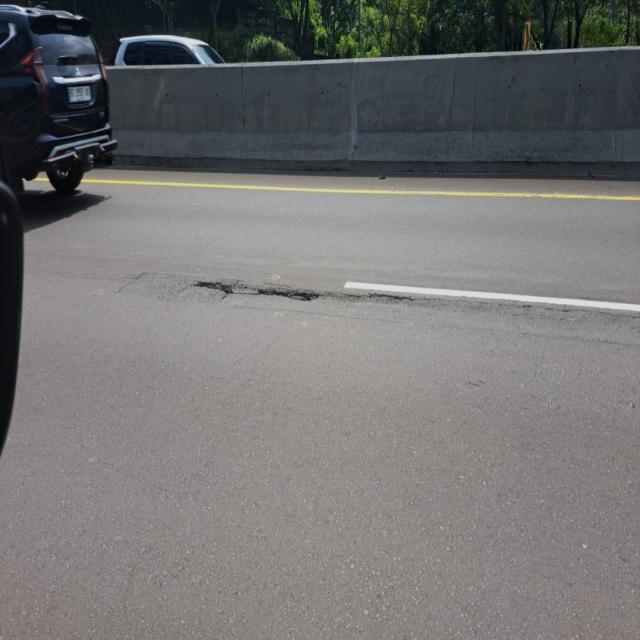Buraco: (190, 279, 324, 304)
